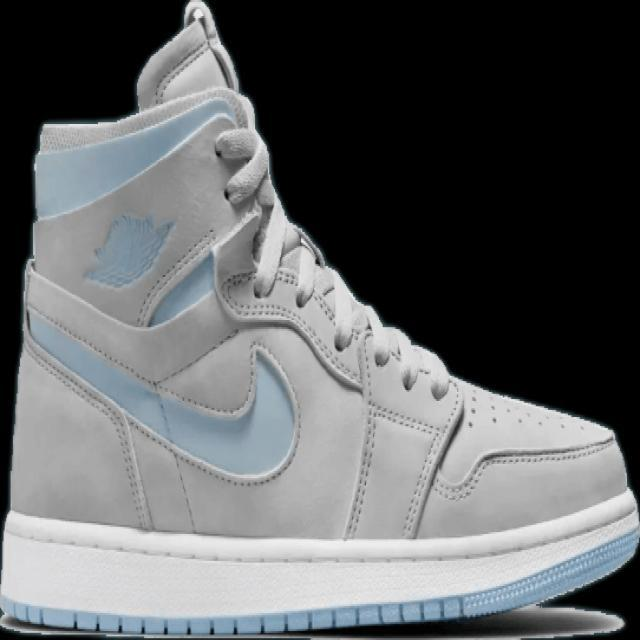J1_InsoleChar: (0, 0, 639, 638)
J1_ShoeLogo: (0, 601, 627, 639), (82, 211, 175, 289)
J1_StitchPattern: (218, 247, 461, 537), (3, 536, 638, 635), (22, 329, 156, 530), (340, 326, 461, 540), (211, 120, 326, 307), (218, 262, 362, 388), (432, 430, 618, 503), (399, 382, 465, 540), (134, 225, 217, 328), (341, 319, 378, 541), (106, 410, 156, 530)
